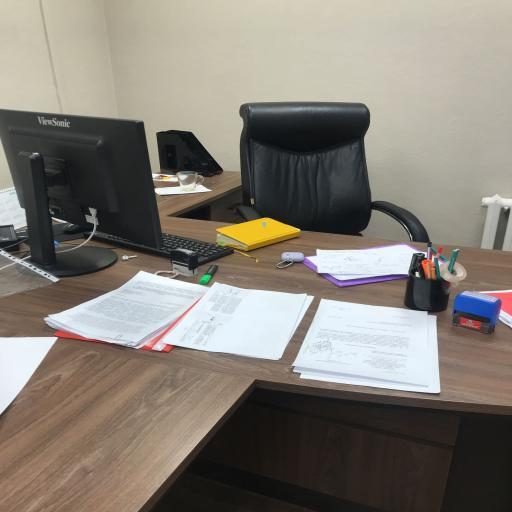bus: (236, 103, 428, 241)
stroller: (0, 233, 511, 511), (157, 171, 241, 222)
